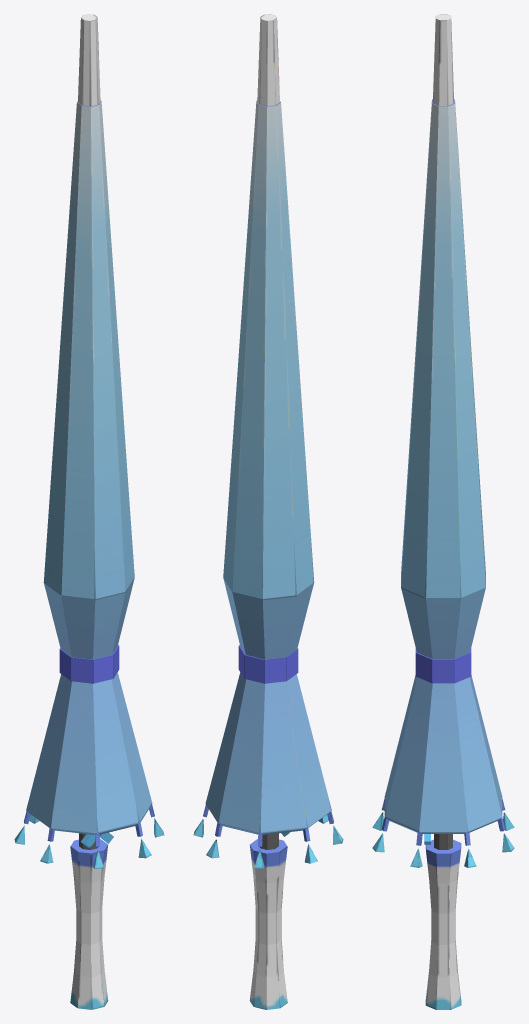
Rendered from rainy_butterfly.obj.
The picture shows the model from 3 angles, left to right: view 1: azimuth 30°, elevation 25°; view 2: azimuth 150°, elevation 25°; view 3: azimuth 270°, elevation 25°; orthographic projection.
Parts seen in each view (by area): view 1: cylinder; view 2: cylinder; view 3: cylinder.
Part boxes in pixels (box(x1,y1,x2,y2)): cylinder: box(14, 14, 164, 1009); cylinder: box(193, 14, 343, 1009); cylinder: box(372, 14, 514, 1009).
Size of the model in its own units: 0.1198 by 0.9131 by 0.1198.
